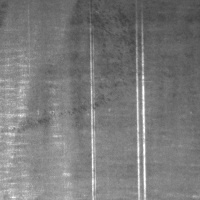scratches: (130, 6, 149, 200), (84, 22, 99, 200)
